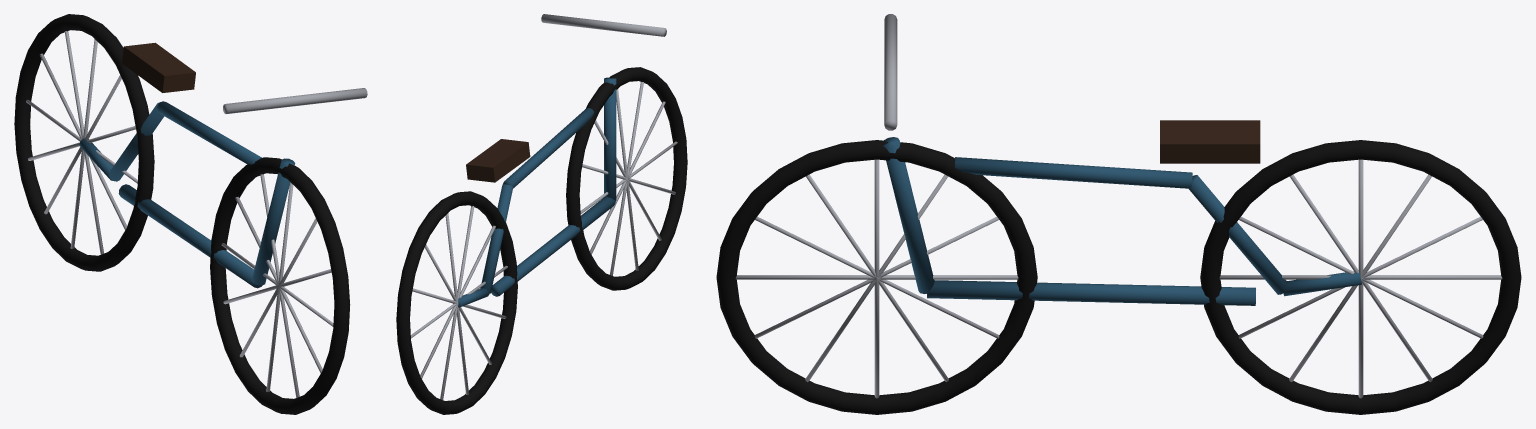
Rendered from fahrrad.glb.
The picture shows the model from 3 angles, left to right: view 1: azimuth 30°, elevation 25°; view 2: azimuth 150°, elevation 25°; view 3: azimuth 270°, elevation 25°; orthographic projection. The views are drawn at different scales.
Parts seen in each view (by area): view 1: fahrrad; view 2: fahrrad; view 3: fahrrad.
Boxes of the visible parts, x1,y1,x2,y2 form: fahrrad: [14, 14, 367, 414]; fahrrad: [396, 14, 687, 414]; fahrrad: [716, 14, 1521, 414].
Bounding box in the file's own units: 0.44 × 0.9155 × 1.76.
